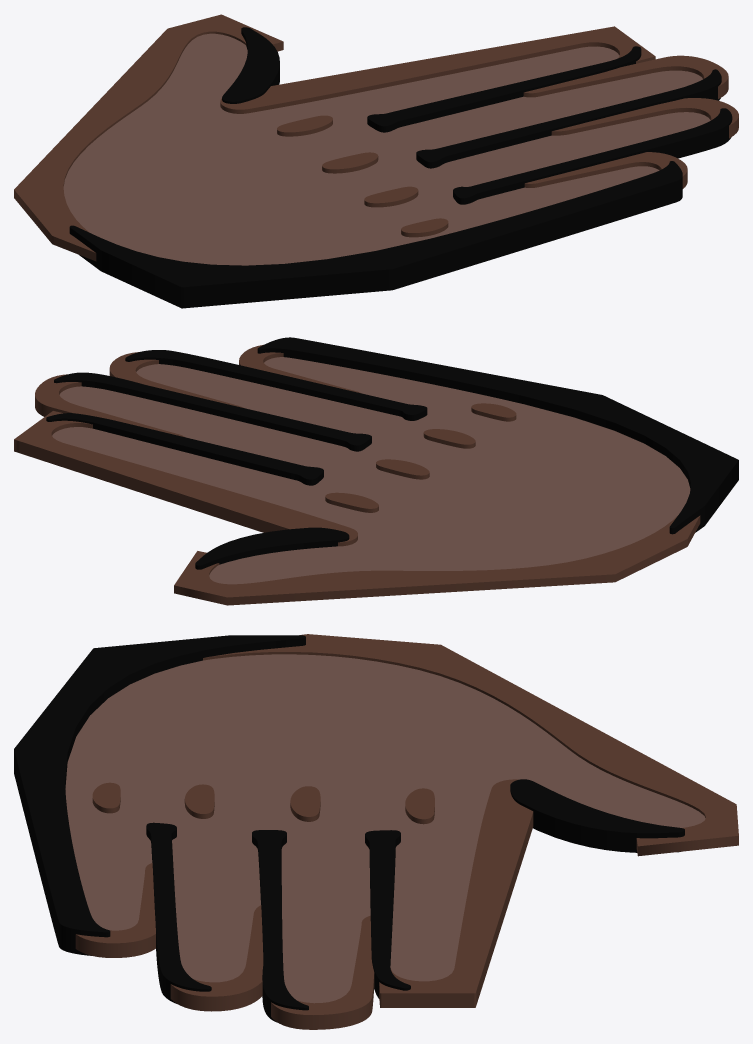
The model's file is emoji_u1faf1_1f3ff.glb.
3 views of the same model, one above another, from view 1: azimuth 30°, elevation 25°; view 2: azimuth 150°, elevation 25°; view 3: azimuth 270°, elevation 25° (orthographic). The views are drawn at different scales.
Parts seen in each view (by area): view 1: emoji_u1faf1_1f3ff; view 2: emoji_u1faf1_1f3ff; view 3: emoji_u1faf1_1f3ff.
Part boxes in pixels (bbox=[...]): emoji_u1faf1_1f3ff: bbox=[14, 14, 738, 308]; emoji_u1faf1_1f3ff: bbox=[14, 337, 738, 605]; emoji_u1faf1_1f3ff: bbox=[14, 634, 738, 1029].
Bounding box in the file's own units: 0.0334 × 0.001 × 0.0267.
